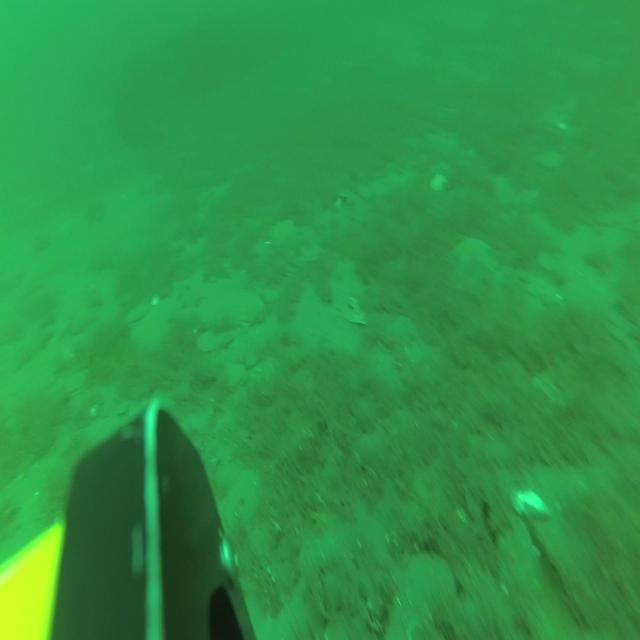scallop: (408, 549, 454, 619), (233, 290, 263, 328), (198, 326, 228, 357), (126, 300, 150, 326), (227, 361, 247, 392), (66, 374, 86, 398)
starfish: (452, 237, 498, 284), (267, 218, 298, 255)
